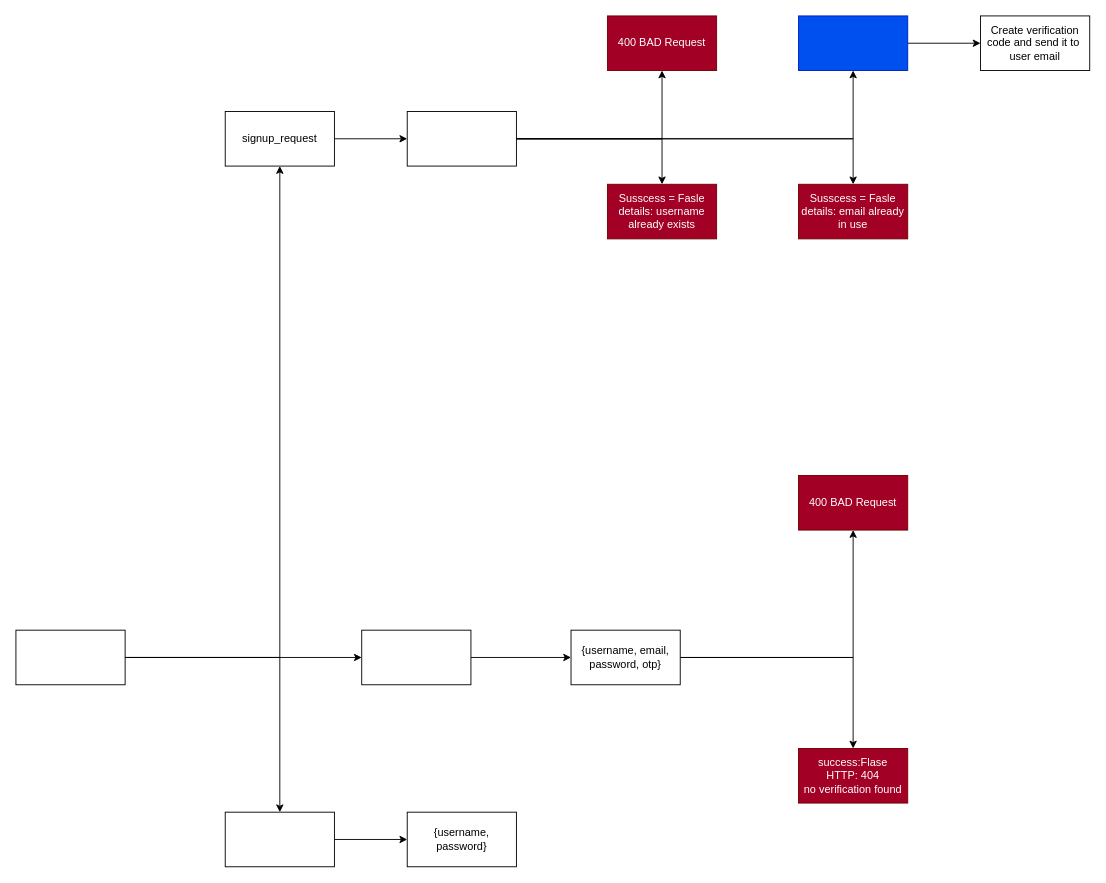
Image size: 1106x883. Some labels were removed from this diagram. The shapes that lost their labels are listed below. From the top down, each one's centre as x and y in pixels, then its label:
the point at 853,43: Success = True
the point at 461,138: {username, email}
the point at 70,657: runserver
the point at 416,657: verification
the point at 279,839: login
